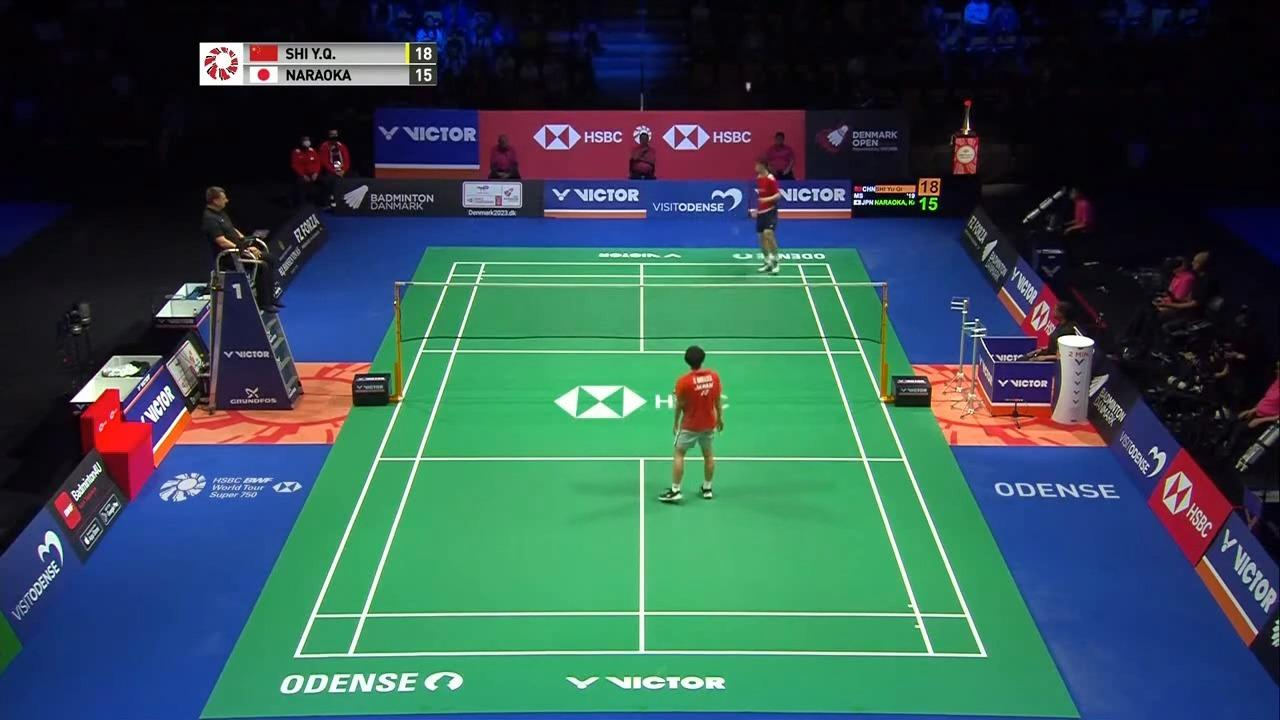shuttle: (744, 80, 754, 94)
